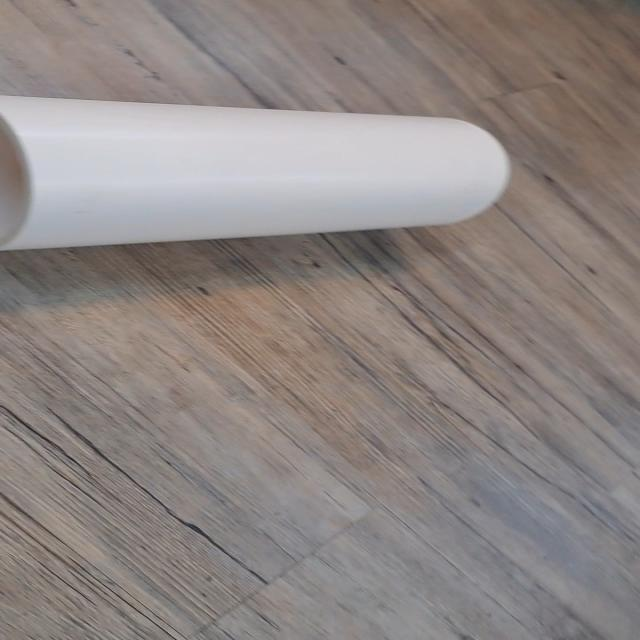CORAL: (0, 80, 525, 258)
